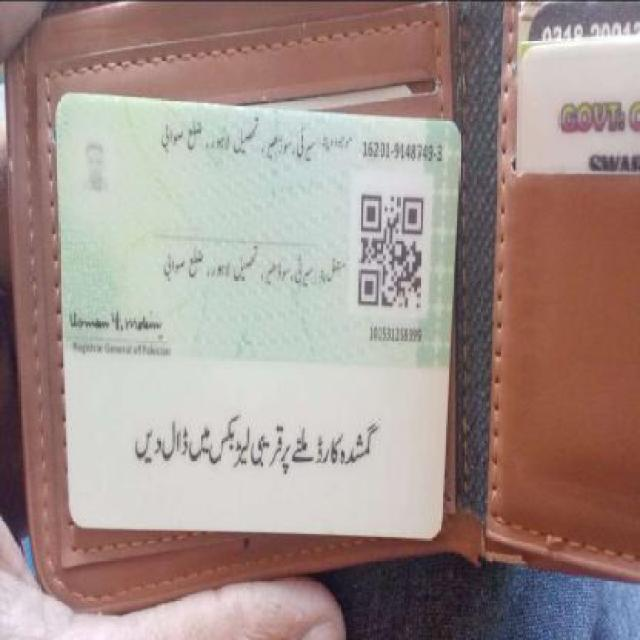Back: (45, 86, 460, 545)
